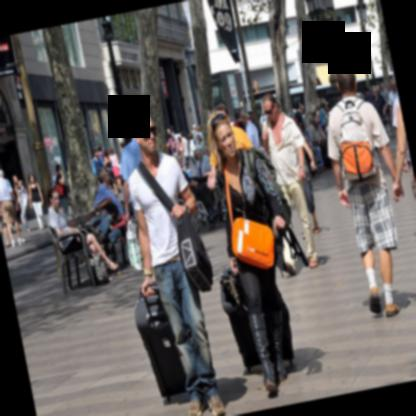backpack: (246, 145, 293, 233), (335, 91, 376, 178), (242, 149, 275, 219)
handbag: (134, 159, 213, 294), (230, 219, 275, 274), (85, 253, 108, 286), (53, 183, 64, 196)
suitcase: (221, 272, 294, 370), (135, 287, 188, 401)
